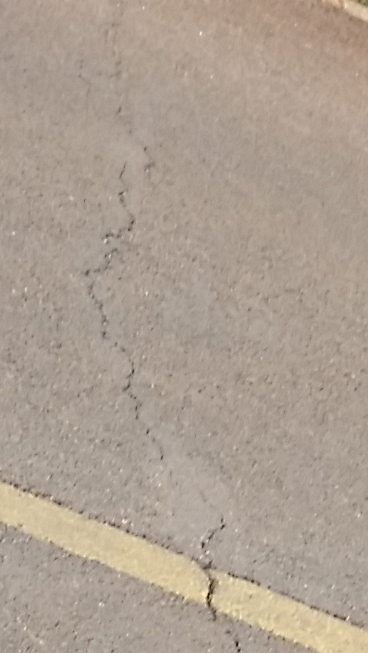A: (73, 10, 250, 647)
